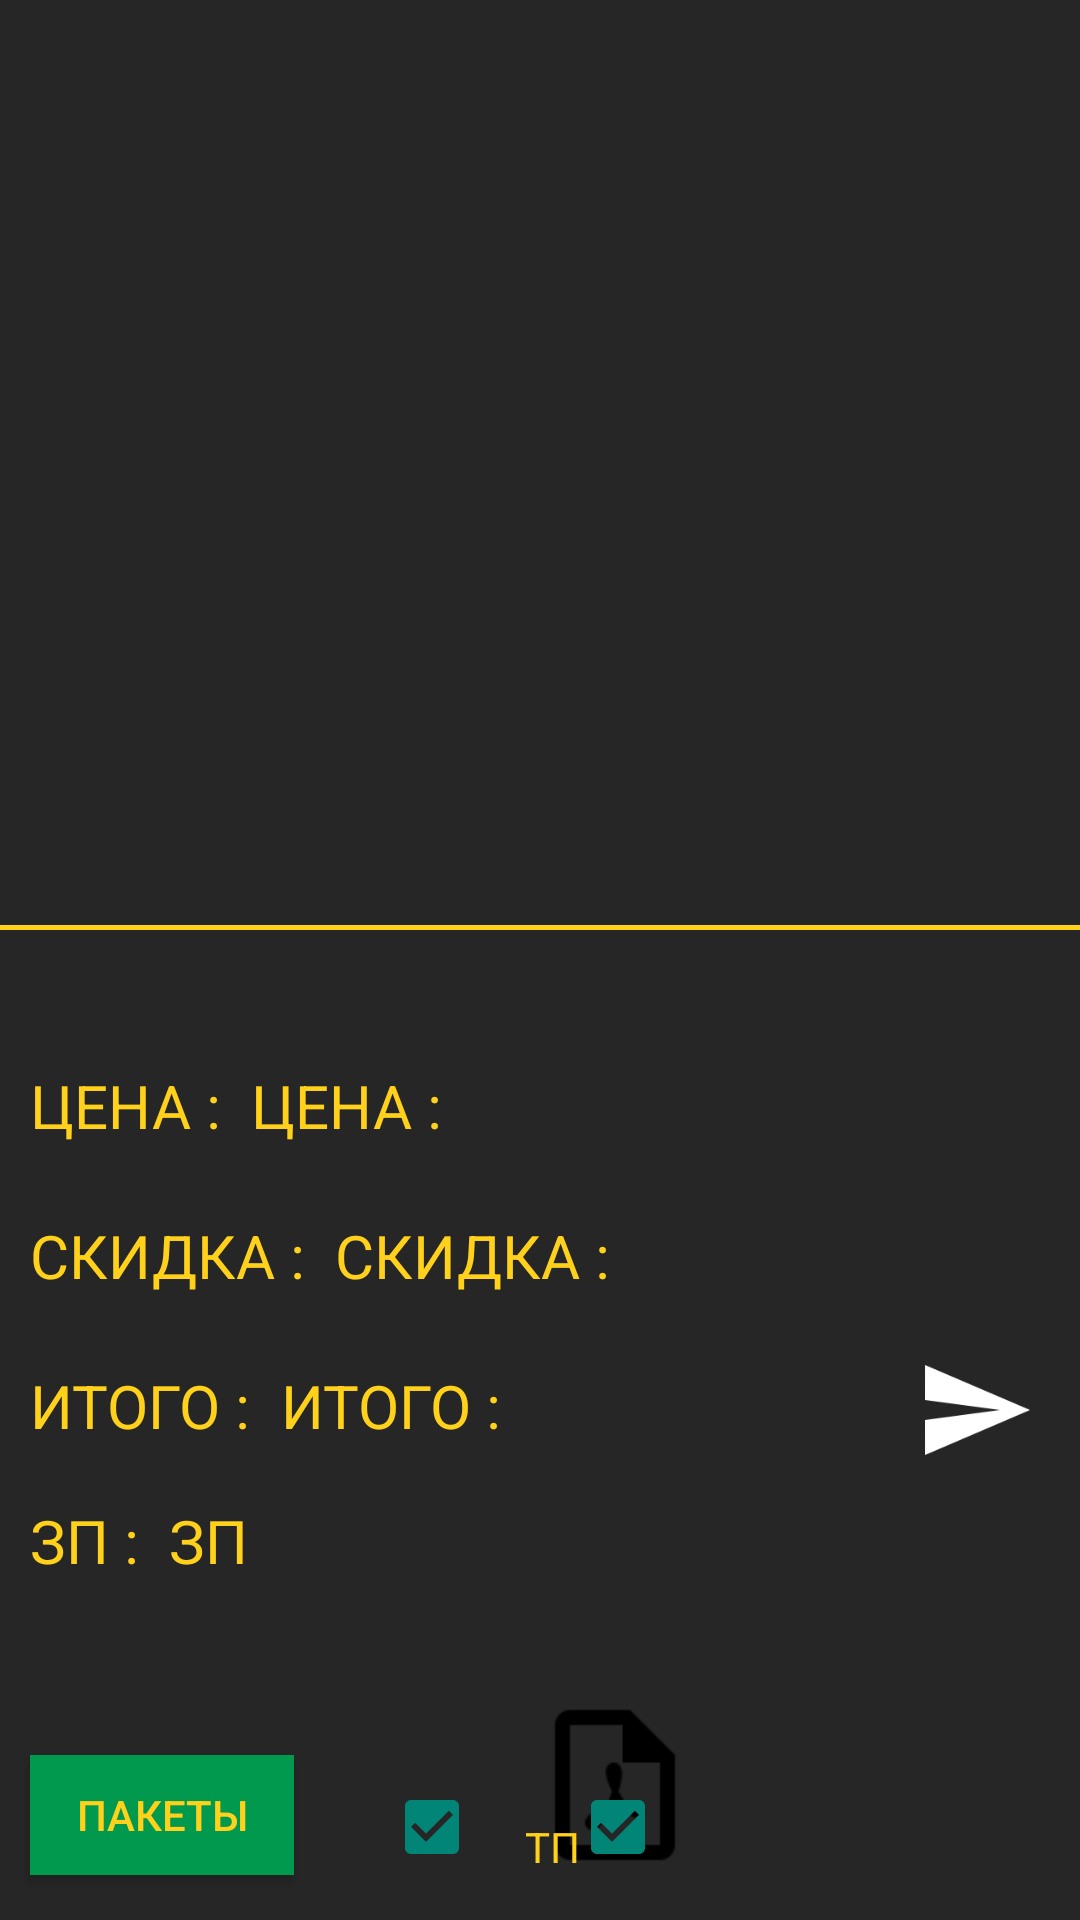

Icon bounding boxes for this 1080×1920 phone screenshot, format (x1,y1,x2,y2):
send: (925,1365,1030,1455)
